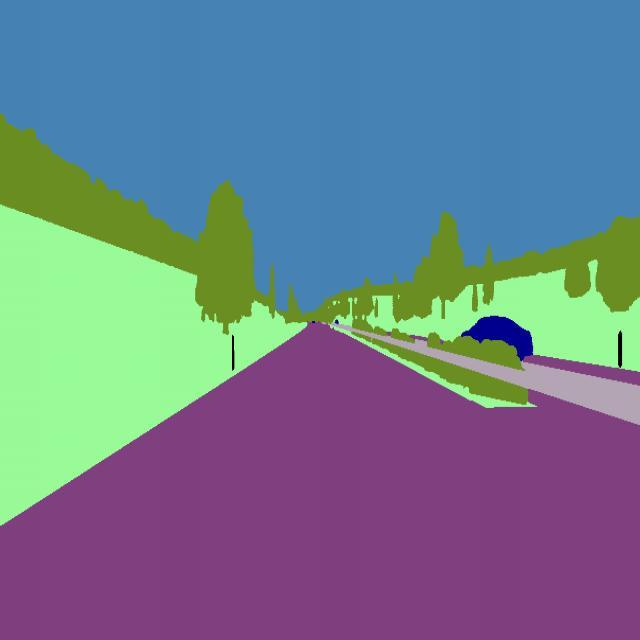safe: (458, 310, 538, 370)
